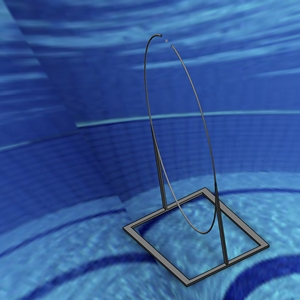circle: (125, 33, 266, 286)
